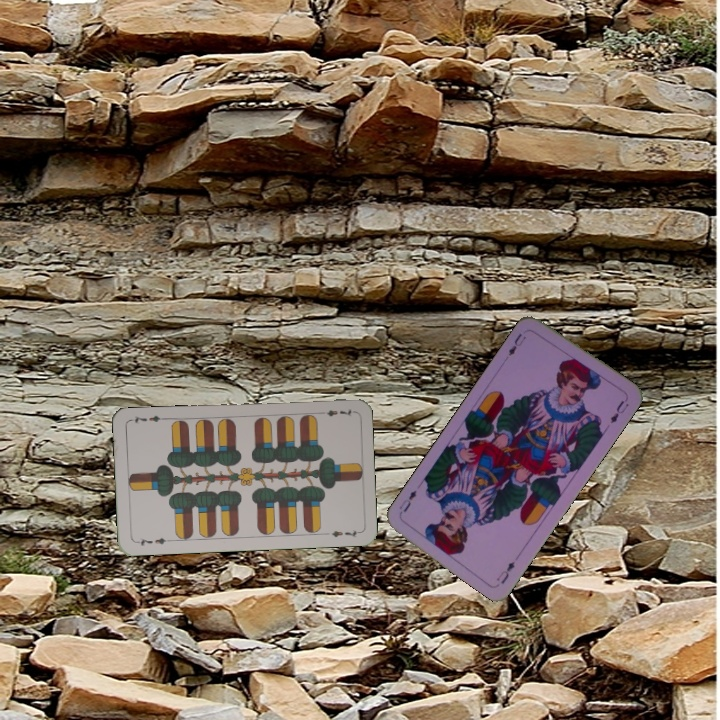E7: (132, 533, 173, 548), (315, 405, 356, 419)
EU: (492, 557, 518, 587), (504, 329, 529, 359)
